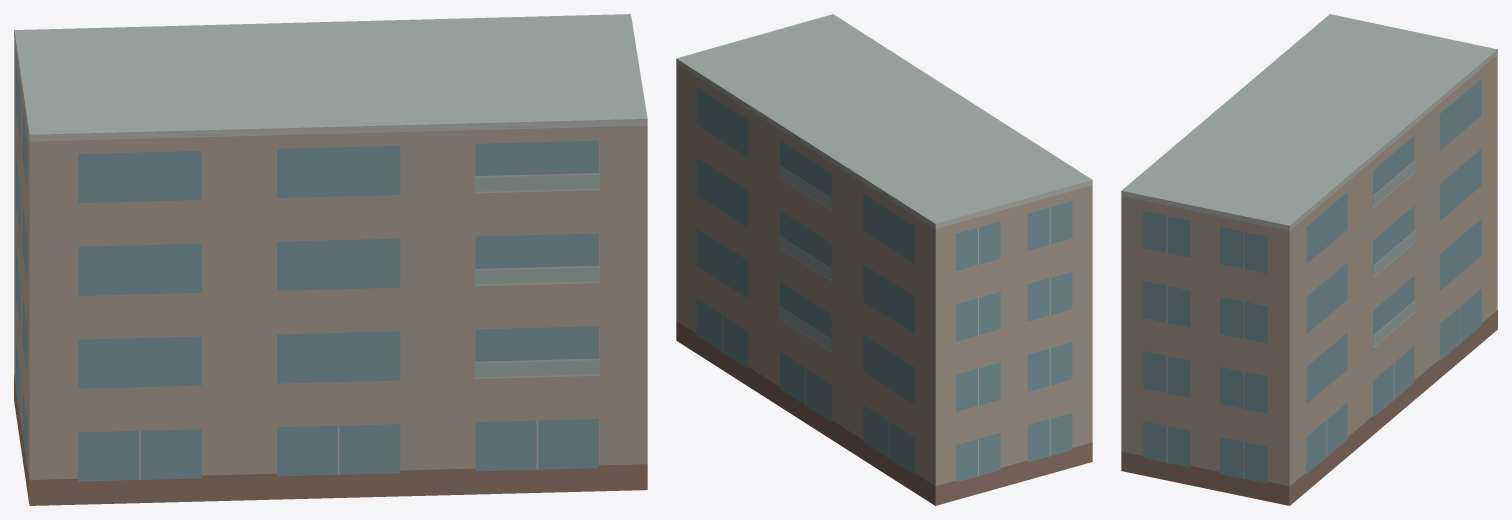
Rendered from survey-upis-32887872.glb.
3 renders of one model, left to right at view 1: azimuth 30°, elevation 25°; view 2: azimuth 150°, elevation 25°; view 3: azimuth 270°, elevation 25°, orthographic. The views are drawn at different scales.
Visible parts, largest first — view 1: survey-upis-32887872.tmp; view 2: survey-upis-32887872.tmp; view 3: survey-upis-32887872.tmp.
Boxes of the visible parts, bbox=[...] form: survey-upis-32887872.tmp: bbox=[14, 14, 647, 505]; survey-upis-32887872.tmp: bbox=[676, 14, 1092, 505]; survey-upis-32887872.tmp: bbox=[1121, 14, 1497, 505].
Bounding box in the file's own units: 21.32 × 13.15 × 16.02.
